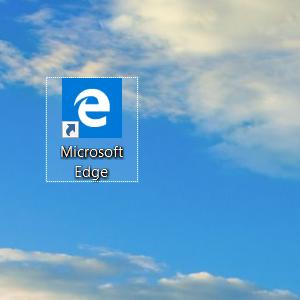edge: (62, 78, 122, 138)
